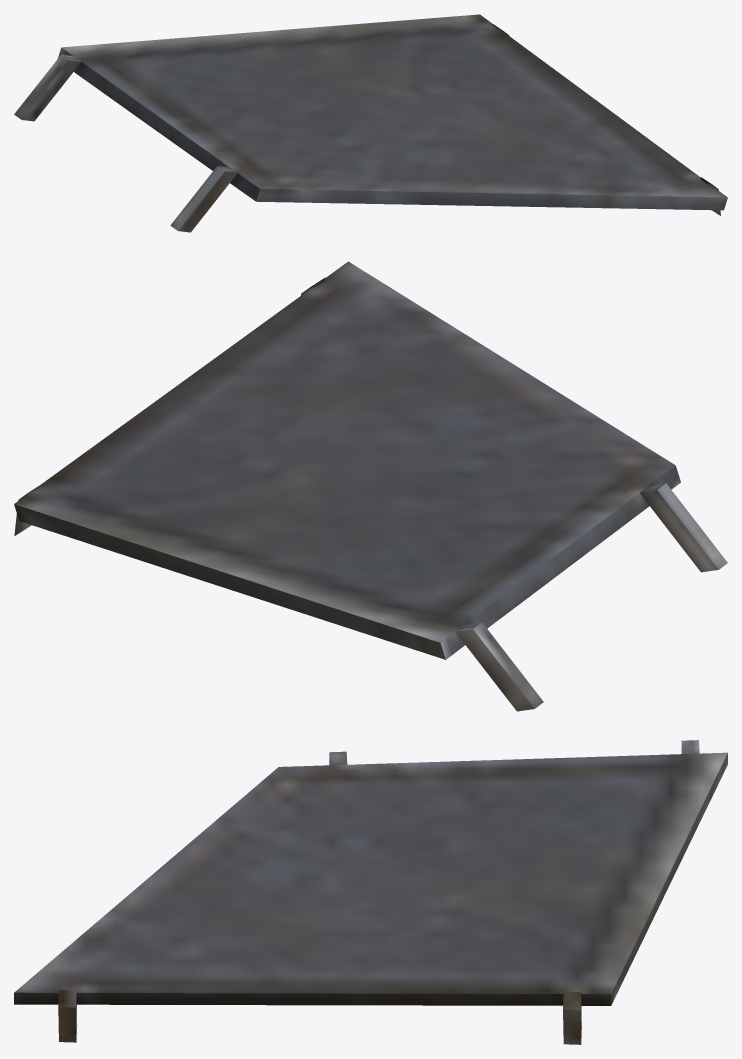
File: FordMustang90RearWindowArmor_WorldItem.fbx
3 renders of one model, top to bottom at view 1: azimuth 30°, elevation 25°; view 2: azimuth 150°, elevation 25°; view 3: azimuth 270°, elevation 25°, orthographic. The views are drawn at different scales.
Parts seen in each view (by area): view 1: RearRightWindowArmor_obj; view 2: RearRightWindowArmor_obj; view 3: RearRightWindowArmor_obj.
Part boxes in pixels (left/top/right/bottom): RearRightWindowArmor_obj: left=14, top=14, right=727, bottom=232; RearRightWindowArmor_obj: left=14, top=261, right=727, bottom=711; RearRightWindowArmor_obj: left=14, top=740, right=727, bottom=1044.
Size of the model in its own units: 0.6899 by 0.0934 by 0.809.
